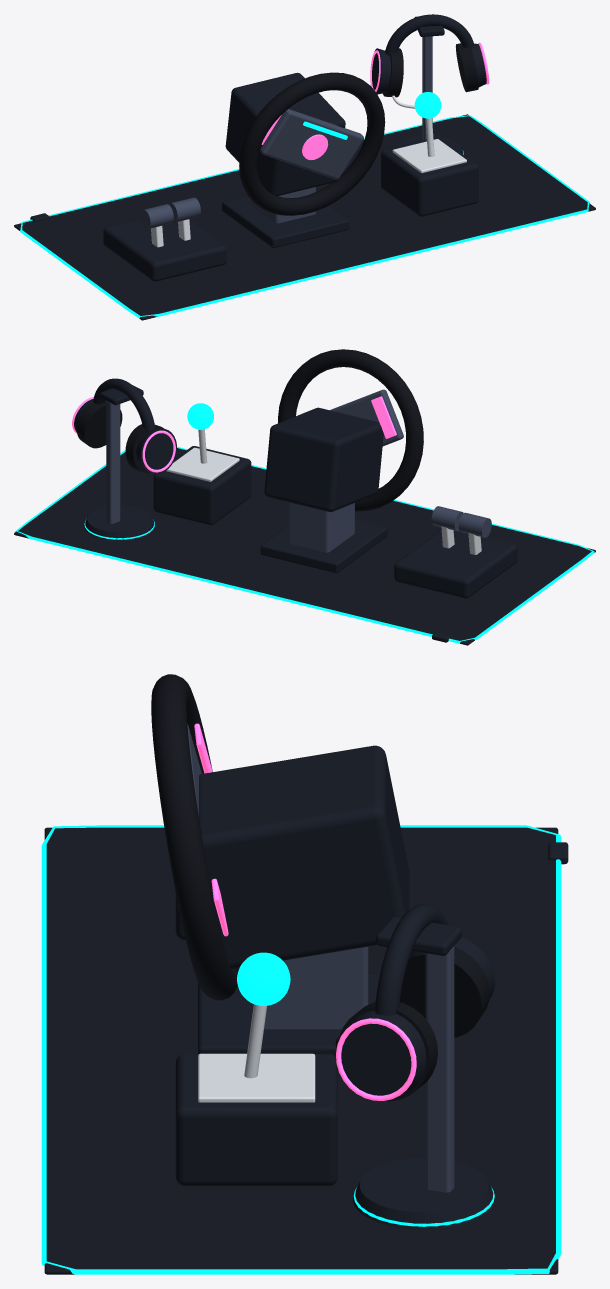
The model's file is atelier-gaming-loadout-simrig-cyber.glb.
3 renders of one model, top to bottom at view 1: azimuth 30°, elevation 25°; view 2: azimuth 150°, elevation 25°; view 3: azimuth 270°, elevation 25°, orthographic. The views are drawn at different scales.
Size of the model in its own units: 0.9452 by 0.3403 by 0.4716.
